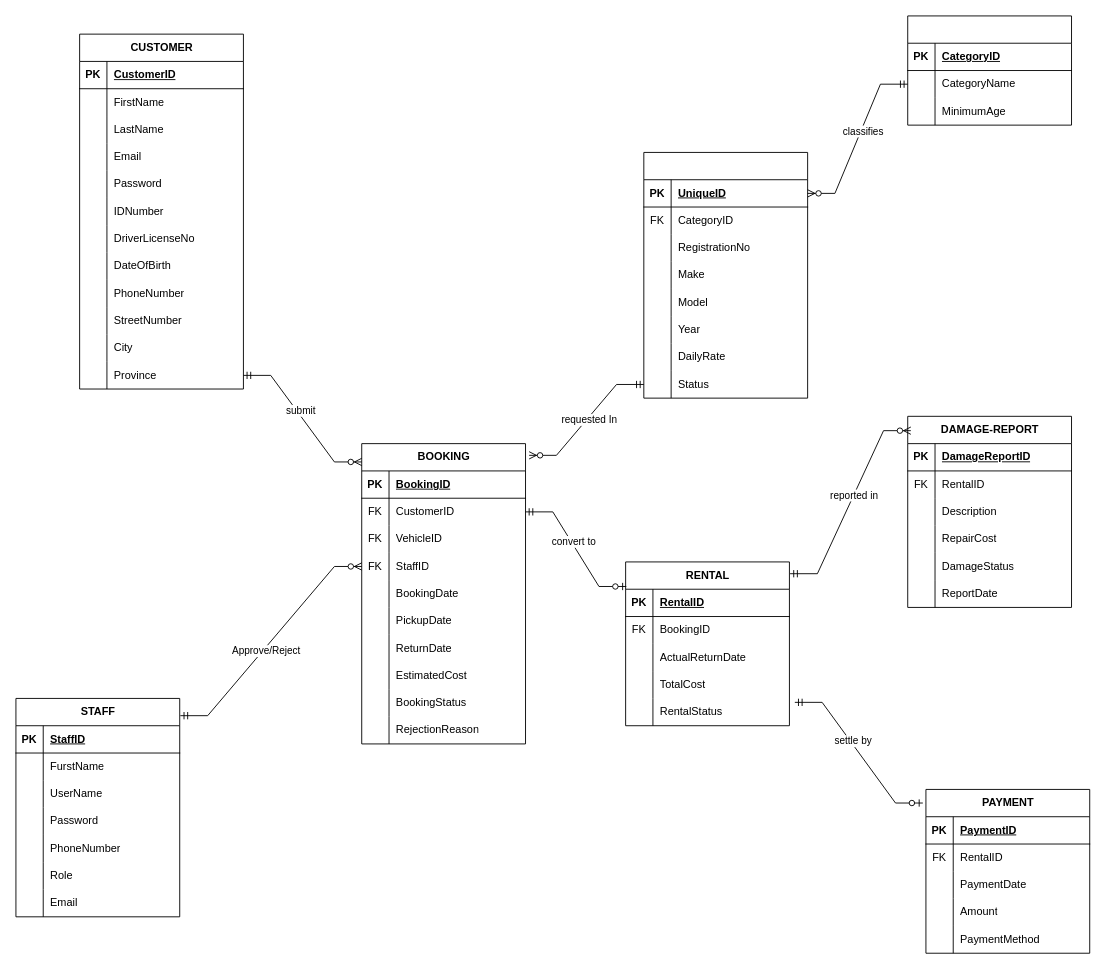
Some shapes in this 1106 by 969 pixel diagram are drawn without their labels. Each missing label, with the box of its shape:
VEHICLE: (643, 152, 808, 398)
VEHICLE-CATEGORY: (907, 15, 1072, 125)
